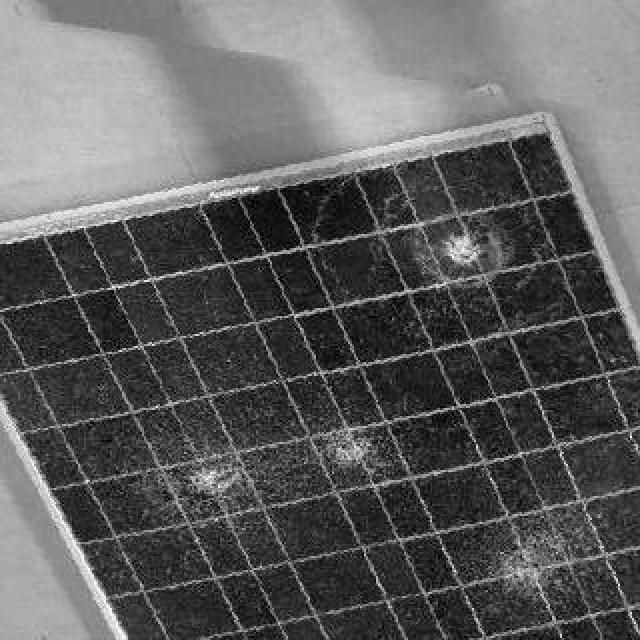Physical-damage: (307, 162, 571, 356), (126, 389, 428, 537), (460, 484, 622, 615)
